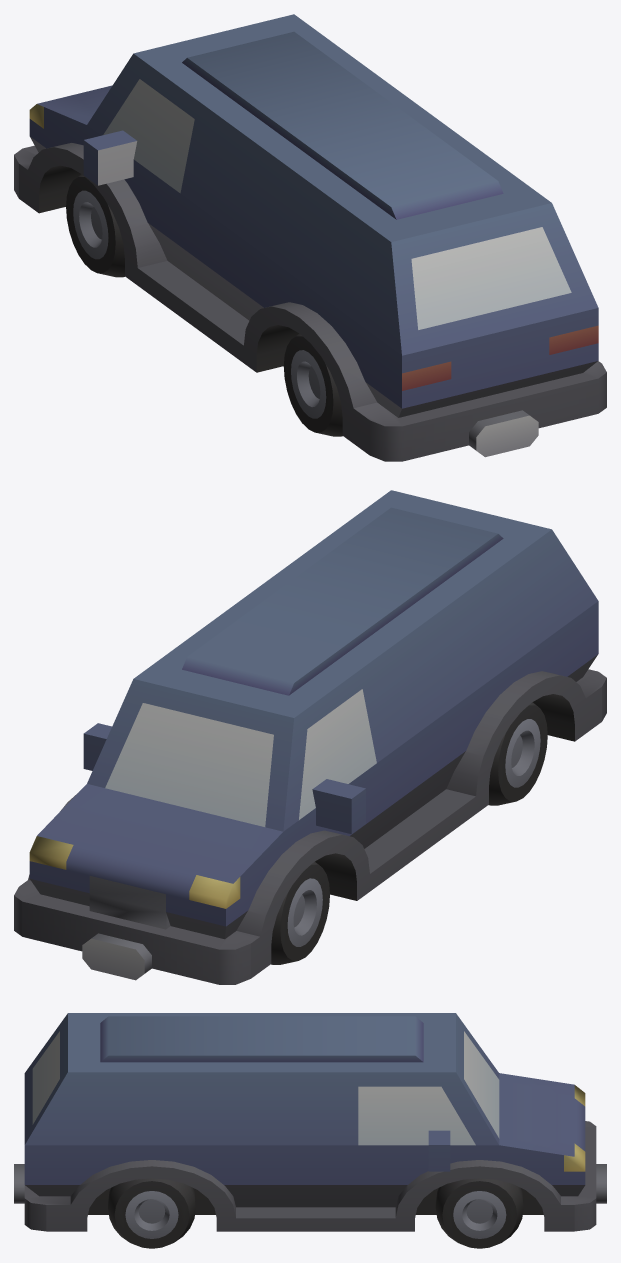
Rendered from van.glb.
The picture shows the model from 3 angles, top to bottom: view 1: azimuth 30°, elevation 25°; view 2: azimuth 150°, elevation 25°; view 3: azimuth 270°, elevation 25°; orthographic projection. The views are drawn at different scales.
Parts seen in each view (by area): view 1: body, wheel-back-left, wheel-front-left; view 2: body, wheel-back-left, wheel-front-left; view 3: body, wheel-front-right, wheel-back-right.
Part boxes in pixels (<box>): body: <box>14,14,606,461</box>; wheel-back-left: <box>283,333,342,436</box>; wheel-front-left: <box>66,174,124,277</box>; body: <box>14,490,606,984</box>; wheel-back-left: <box>489,702,547,805</box>; wheel-front-left: <box>271,861,329,964</box>; body: <box>14,1013,606,1231</box>; wheel-front-right: <box>435,1178,523,1248</box>; wheel-back-right: <box>108,1178,195,1248</box>.
Size of the model in its own units: 1.9 by 1.62 by 4.84.
Materials: 1 (1 with a texture image).
